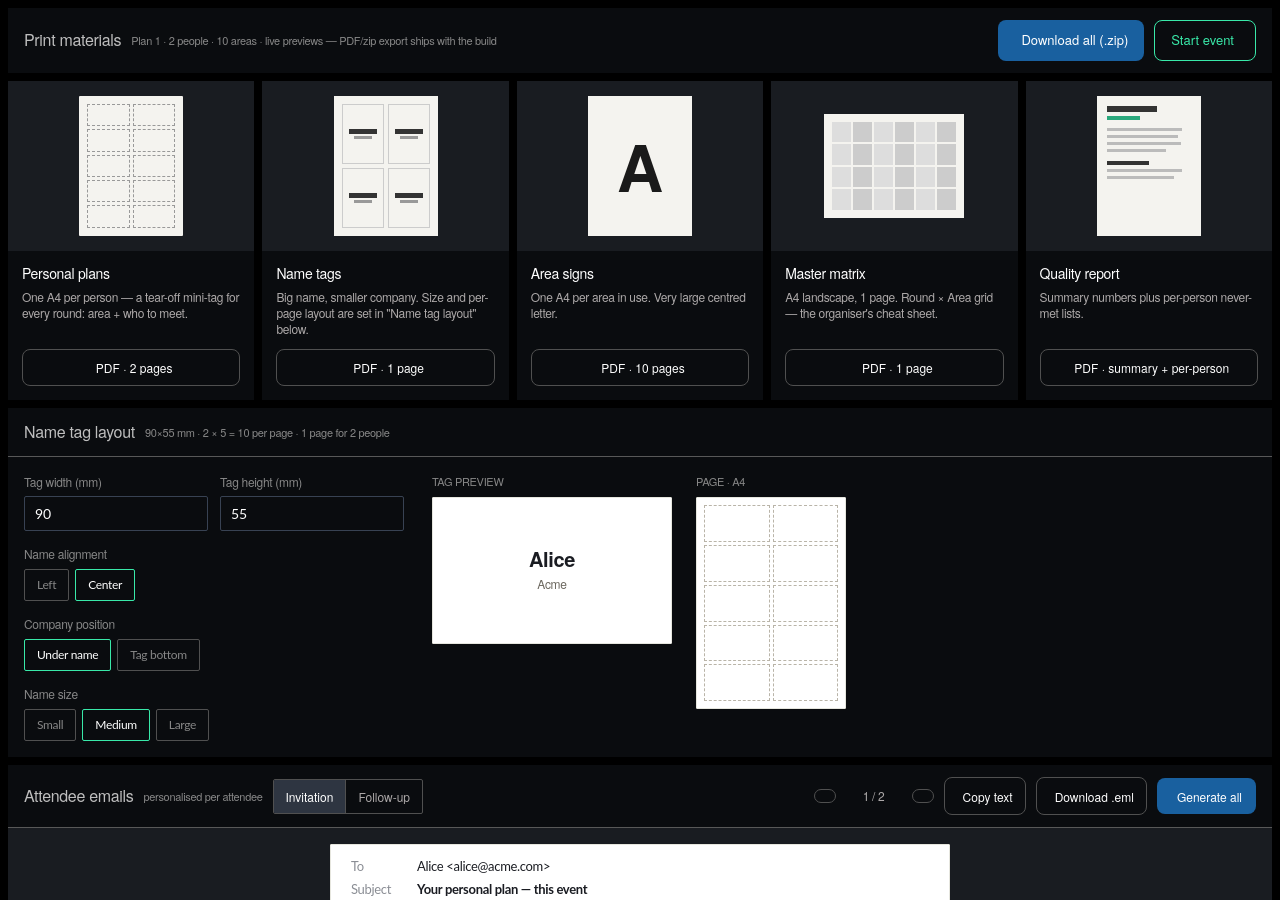
it: PrintPage › updating the tag width does not clear the generated schedule
The image size is (1280, 900).
Replace the text in the number field showing "90" below "Tag width (mm)" with "70" at (116, 514), box [24, 496, 208, 532]
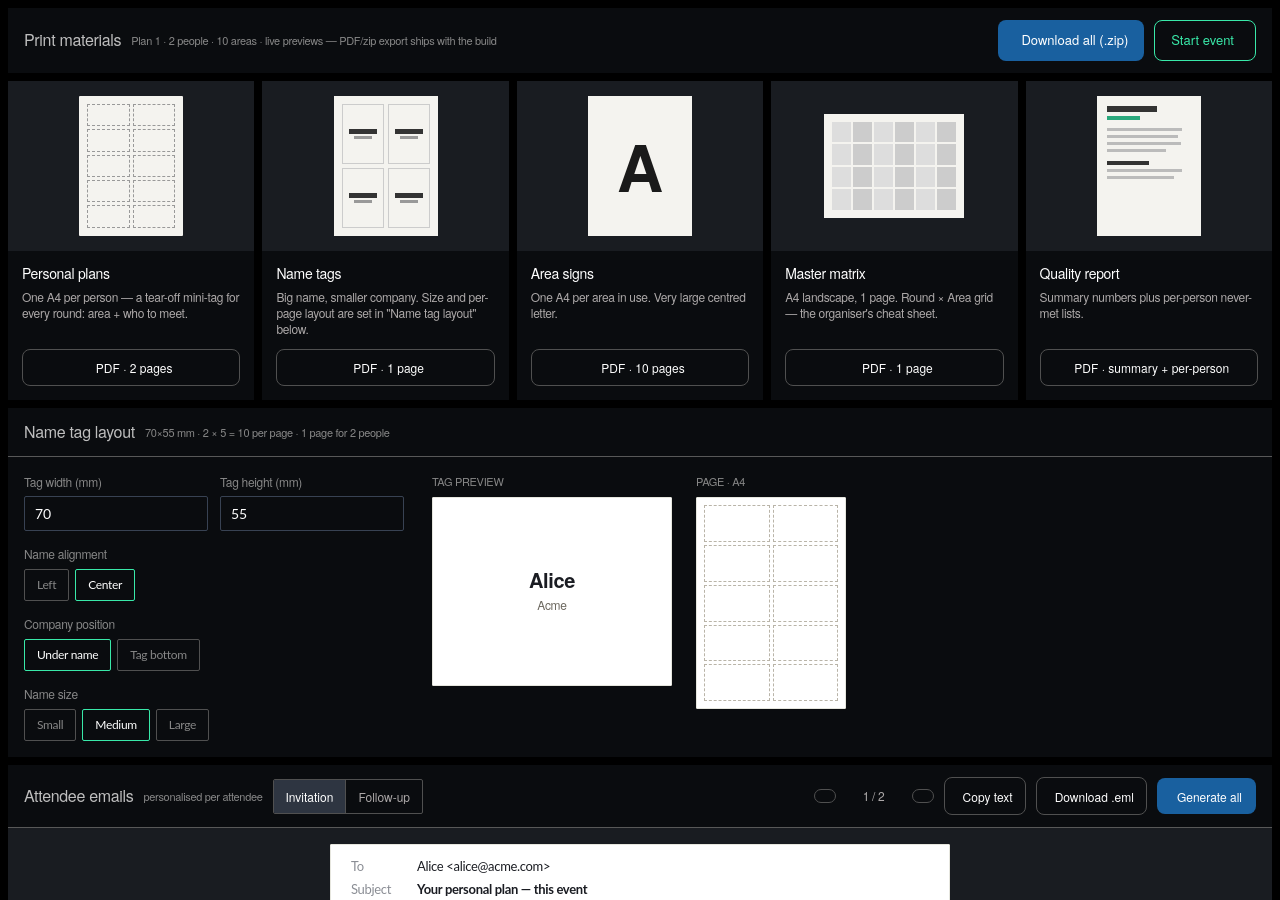
Expected: the text "Personal plans" is shown, [22, 263, 110, 283]
Expected: the text "70×55 mm · 2 × 5 = 10 per page · 1 page for 2 people" is shown, [145, 424, 390, 441]
